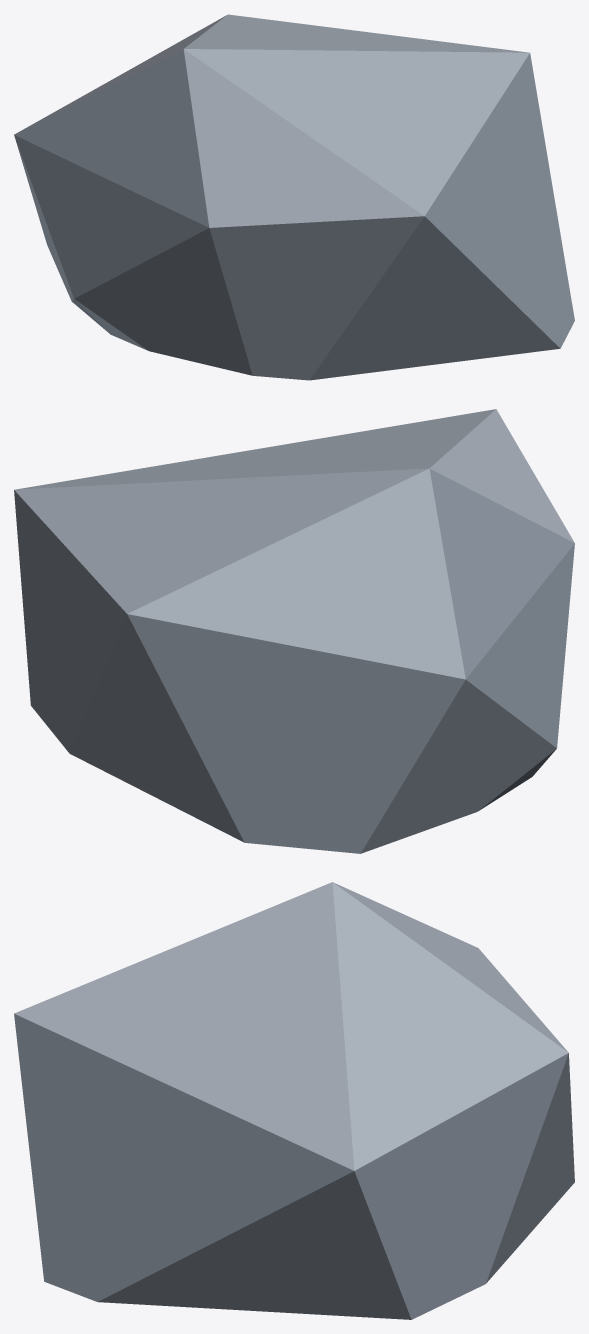
File: Rock_Small.fbx
The picture shows the model from 3 angles, top to bottom: view 1: azimuth 30°, elevation 25°; view 2: azimuth 150°, elevation 25°; view 3: azimuth 270°, elevation 25°; orthographic projection. The views are drawn at different scales.
Parts seen in each view (by area): view 1: Rock_Small; view 2: Rock_Small; view 3: Rock_Small.
Boxes of the visible parts, x1,y1,x2,y2 form: Rock_Small: [14, 14, 574, 380]; Rock_Small: [14, 409, 574, 853]; Rock_Small: [14, 882, 574, 1319].
Size of the model in its own units: 0.3511 by 0.1858 by 0.3437.
